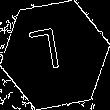L_S: (36, 27, 74, 83)
